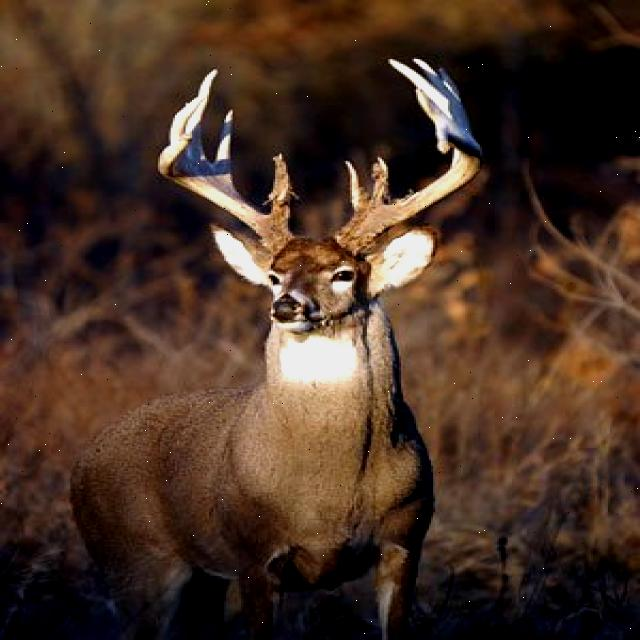deer: (84, 60, 500, 628)
